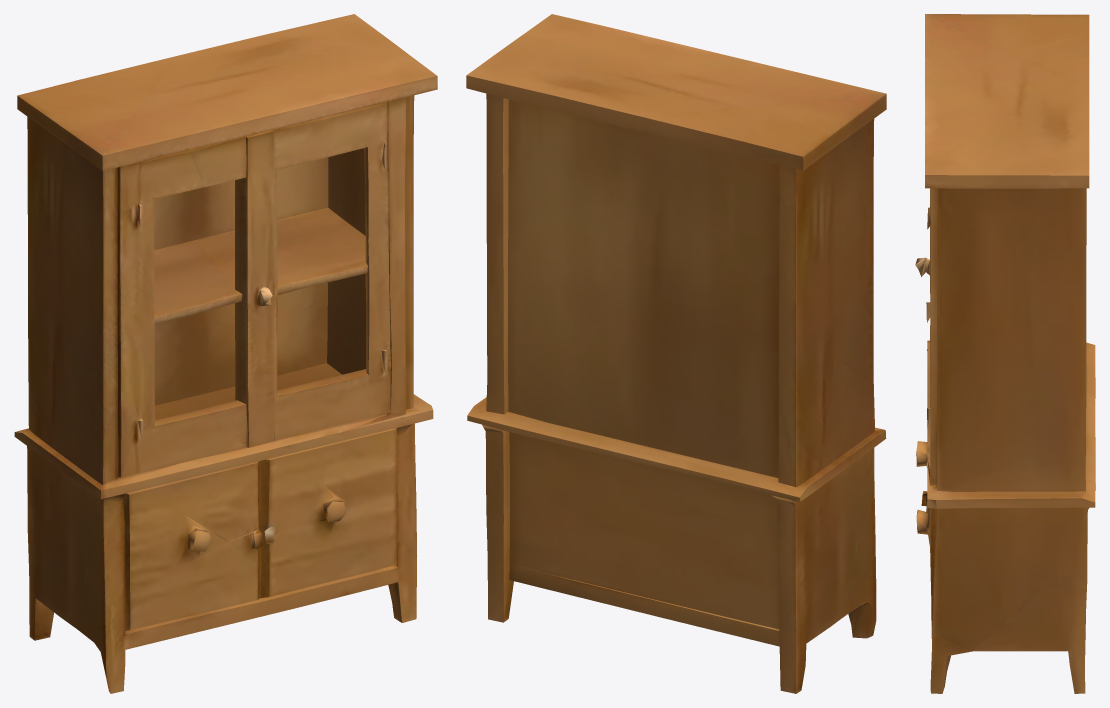
File: cabinet.glb
3 renders of one model, left to right at view 1: azimuth 30°, elevation 25°; view 2: azimuth 150°, elevation 25°; view 3: azimuth 270°, elevation 25°, orthographic. The views are drawn at different scales.
Visible parts, largest first — view 1: model; view 2: model; view 3: model.
Part boxes in pixels (x1,y1,x2,y2): model: [14, 14, 437, 693]; model: [466, 14, 886, 693]; model: [915, 14, 1095, 693].
Size of the model in its own units: 1.22 by 1.89 by 0.5823.
1 material, 1 textured.
